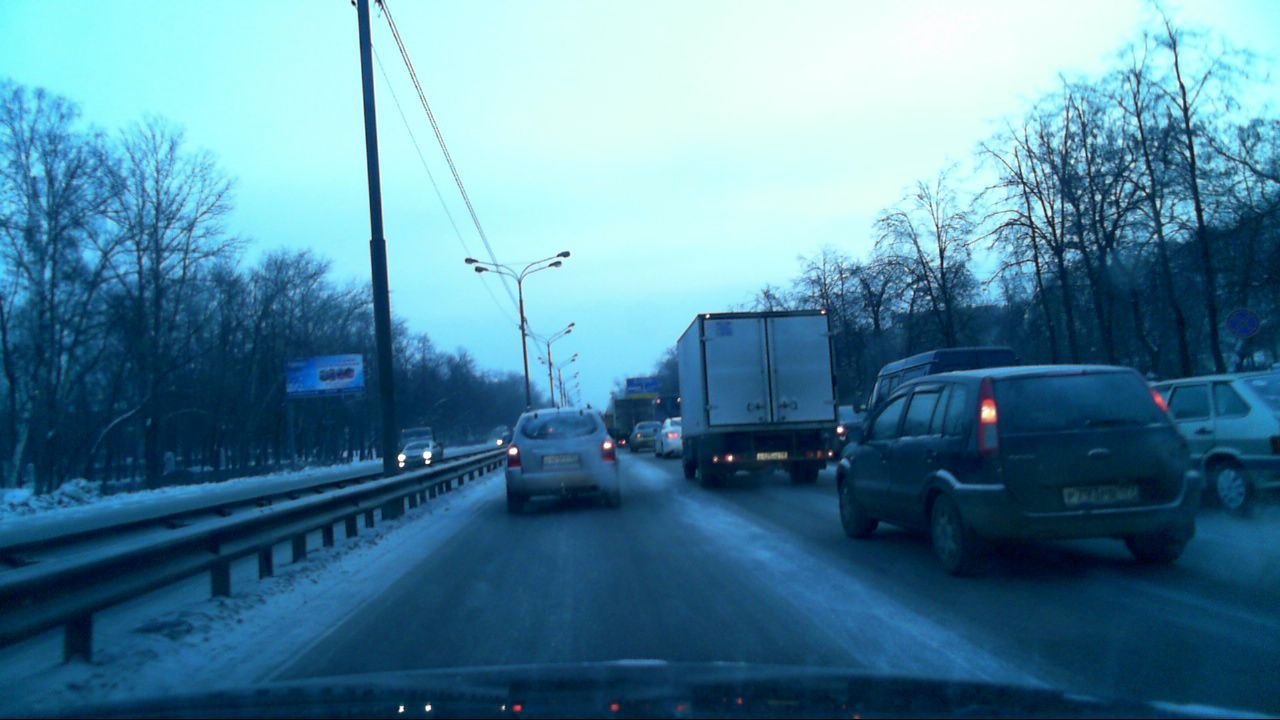No Parking: (1225, 307, 1259, 342)
